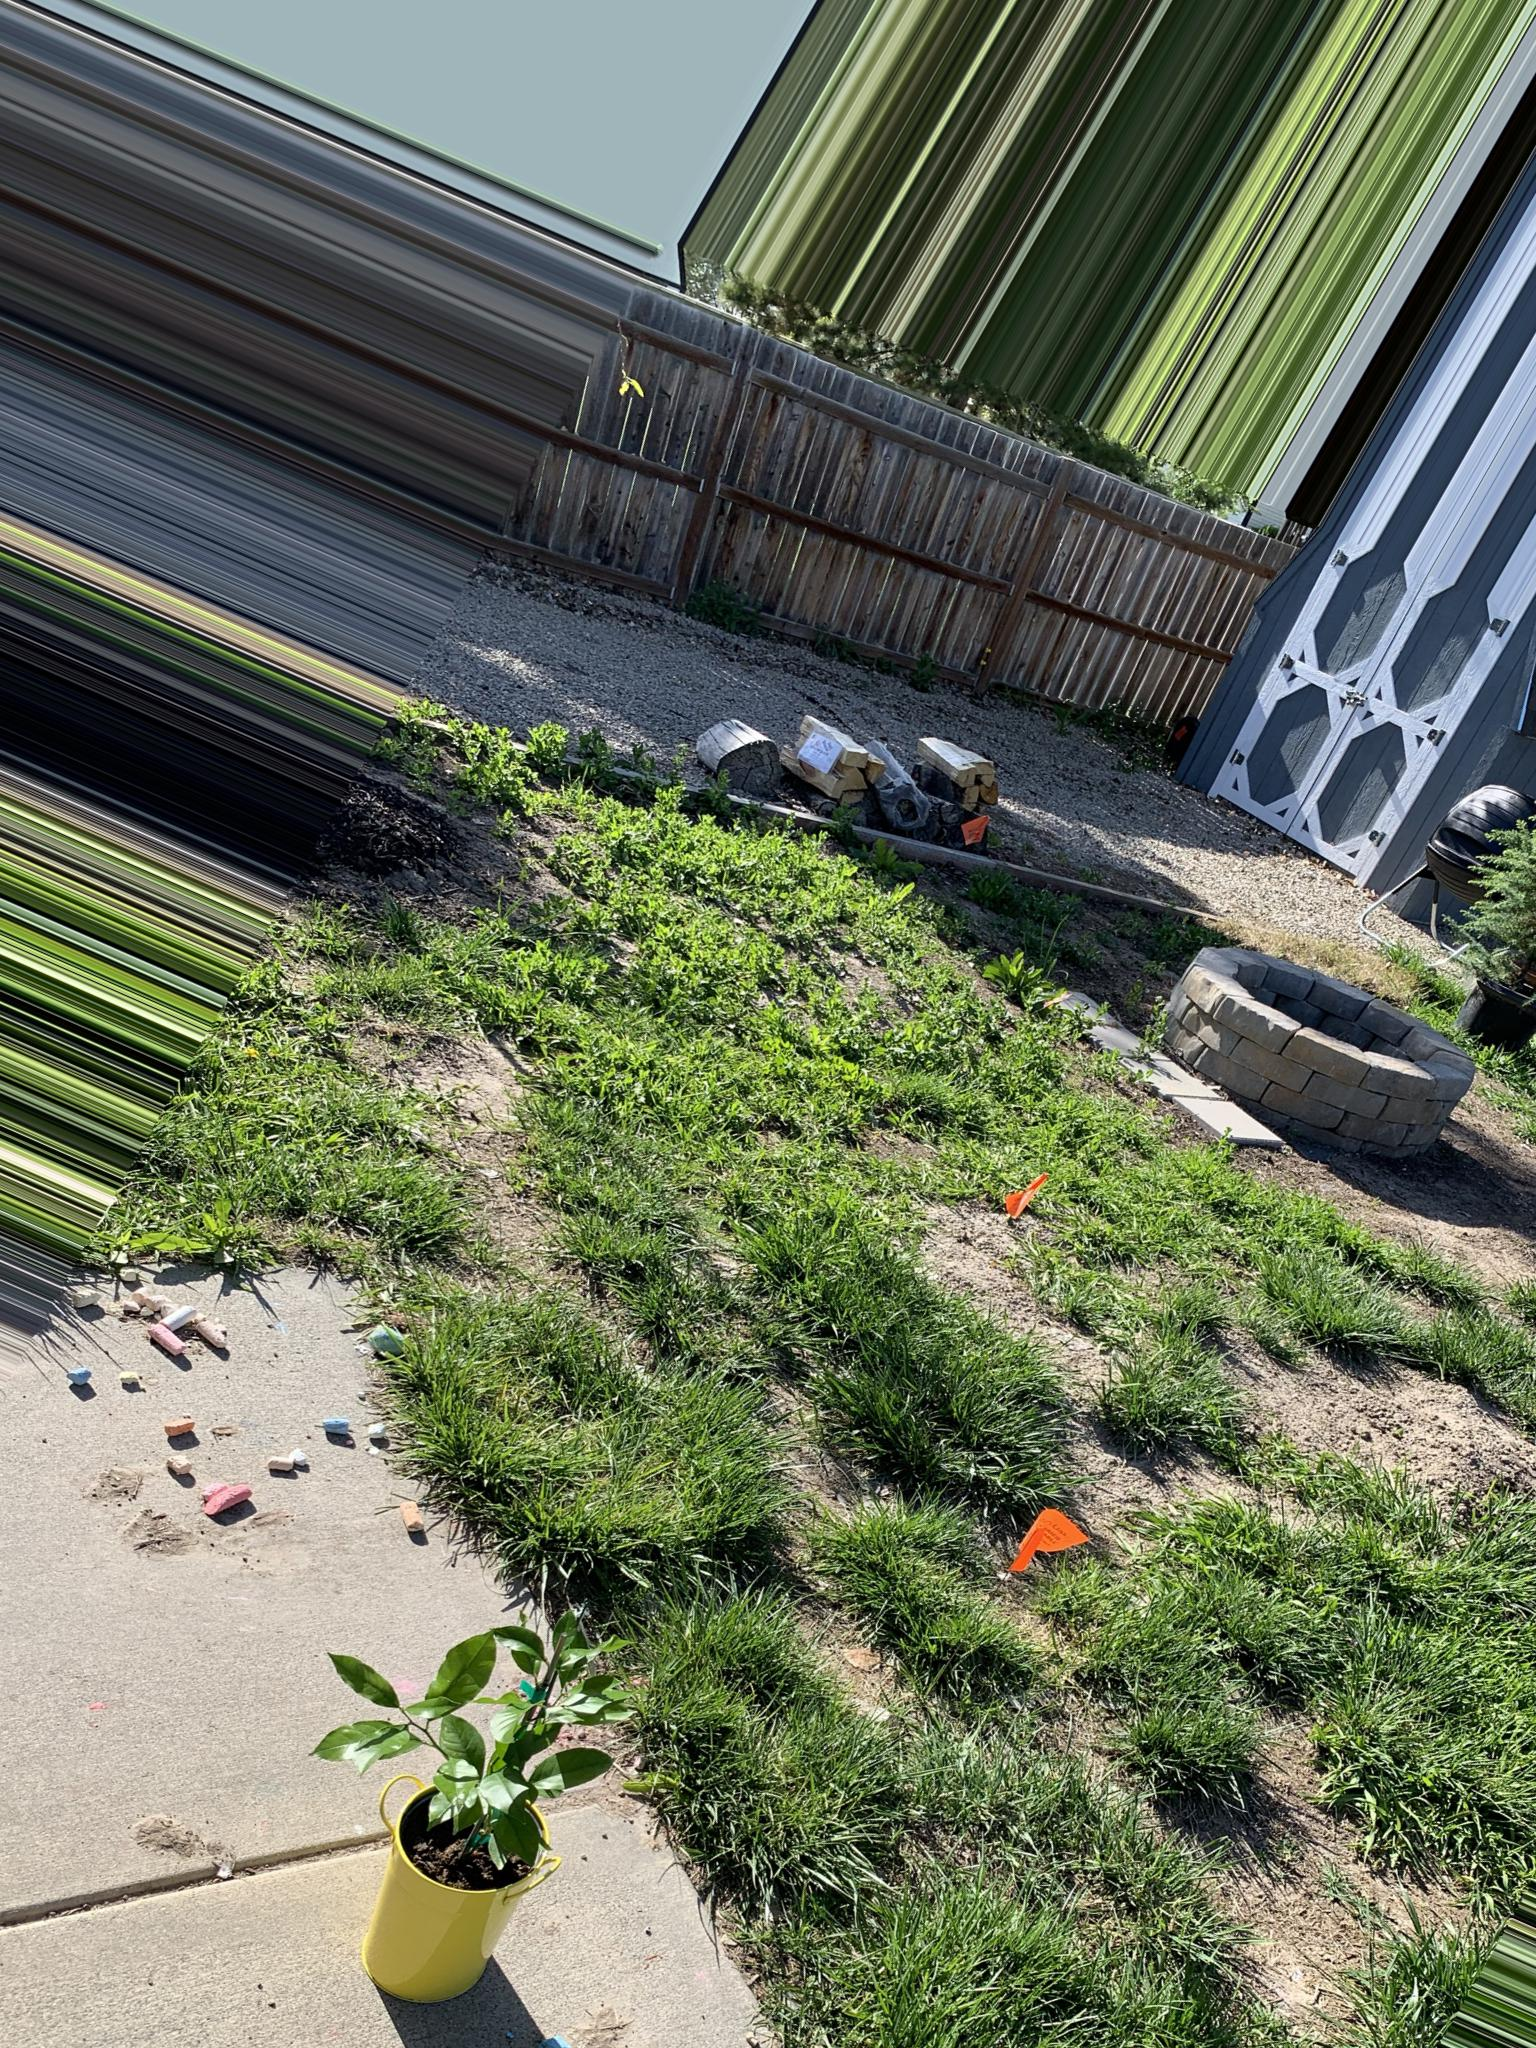patch: (1241, 1334, 1484, 1474), (1247, 1817, 1394, 2001), (926, 1213, 1054, 1351), (403, 1035, 523, 1143), (826, 1596, 900, 1693)
